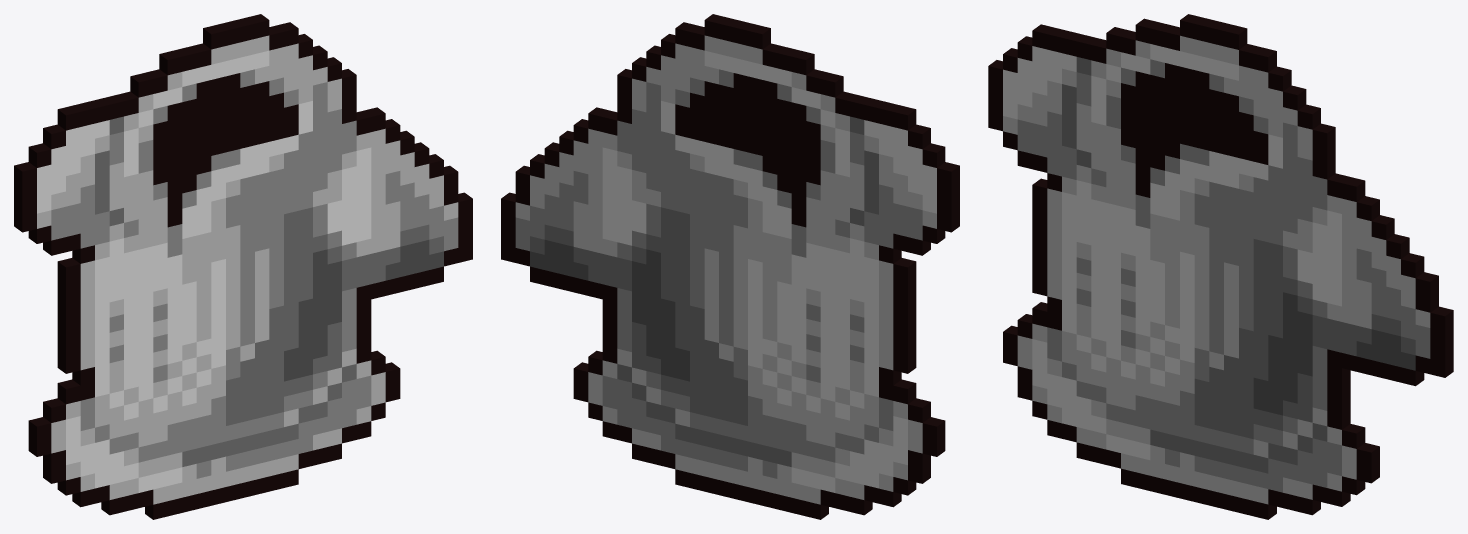
Rendered from A_Armor04.fbx.
The picture shows the model from 3 angles, left to right: view 1: azimuth 30°, elevation 25°; view 2: azimuth 150°, elevation 25°; view 3: azimuth 330°, elevation 25°; orthographic projection.
Visible parts, largest first — view 1: Default; view 2: Default; view 3: Default.
Boxes of the visible parts, x1,y1,x2,y2 form: Default: (14, 14, 472, 519); Default: (501, 14, 959, 519); Default: (988, 14, 1453, 519).
Size of the model in its own units: 31 by 31 by 1.
Materials: 1 (1 with a texture image).
